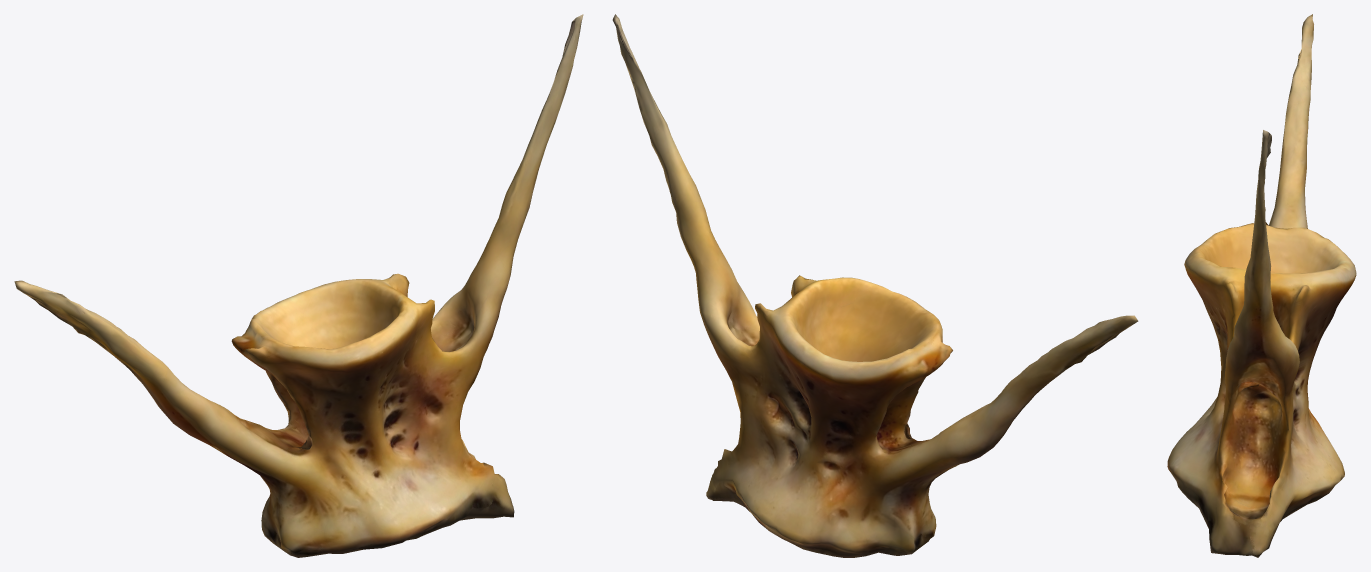
File: Vertebra pez.glb
3 renders of one model, left to right at view 1: azimuth 30°, elevation 25°; view 2: azimuth 150°, elevation 25°; view 3: azimuth 270°, elevation 25°, orthographic.
Parts seen in each view (by area): view 1: 3DModel; view 2: 3DModel; view 3: 3DModel.
Part boxes in pixels (x1=…): 3DModel: x1=14, y1=14, x2=583, y2=557; 3DModel: x1=612, y1=14, x2=1138, y2=557; 3DModel: x1=1167, y1=14, x2=1356, y2=557.
Bounding box in the file's own units: 0.4747 × 0.3882 × 0.1398.
1 material, 1 textured.
